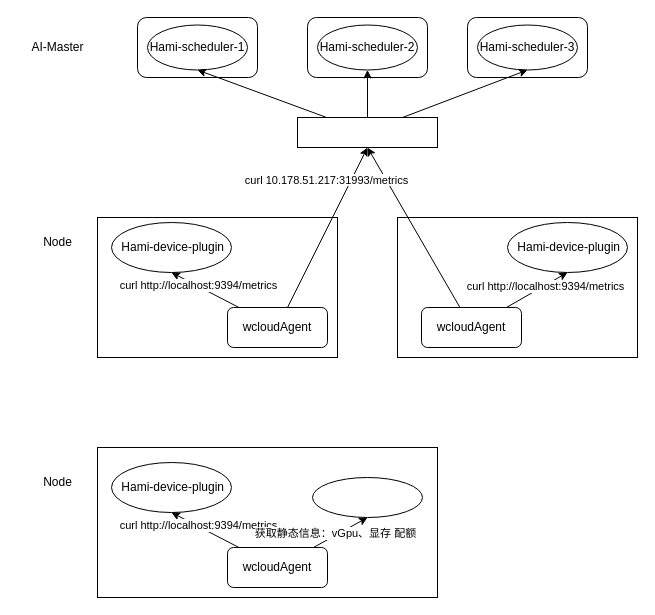
This 655x615 diagram has some shape labels left out. Here are the shapes that lost their labels. From the top down, the box of each, then its label:
(296, 116, 438, 148): VIP: 10.178.51.217
(312, 476, 422, 518): New-Container - use gpu
